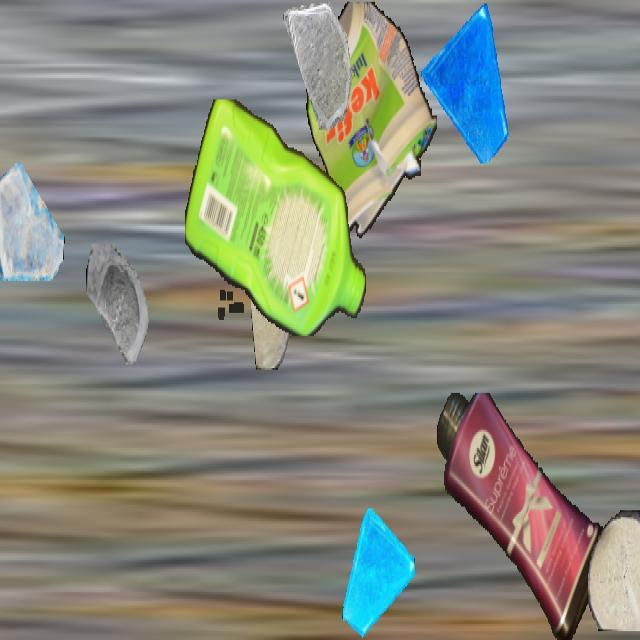glass: (421, 2, 511, 162), (85, 244, 161, 378), (340, 507, 414, 638), (283, 2, 355, 130), (0, 156, 65, 288)
plastic: (185, 100, 367, 334), (436, 393, 608, 638), (305, 2, 437, 247)
wood: (588, 510, 640, 631), (251, 238, 289, 370)
